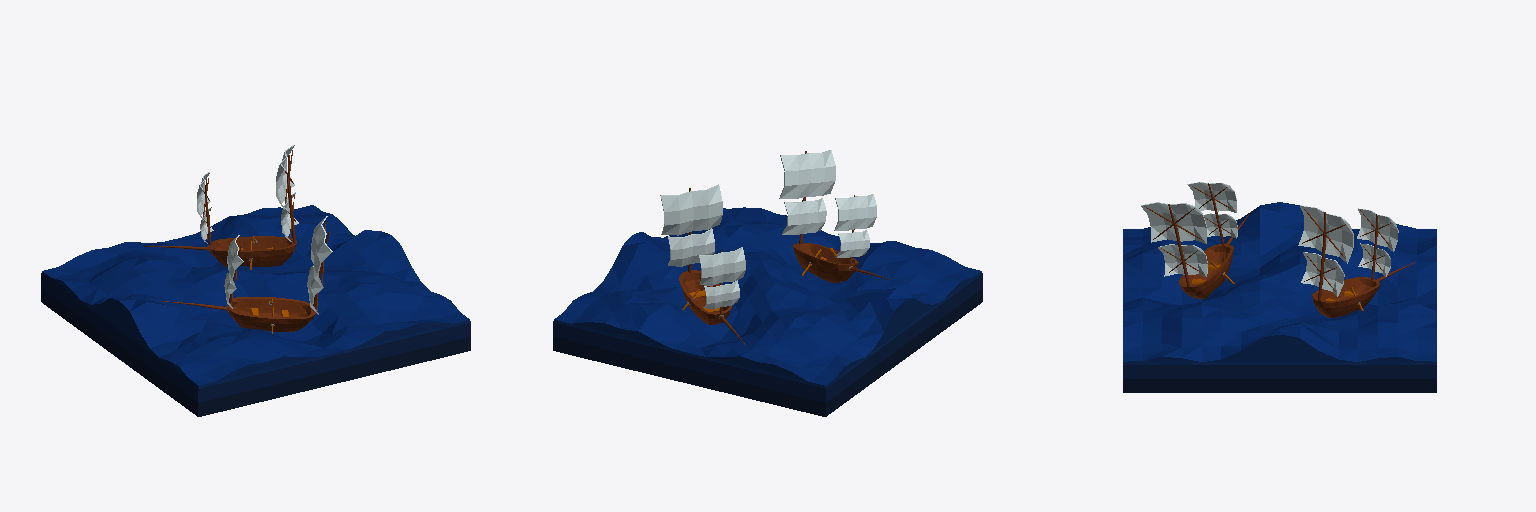
3 renders of one model, left to right at view 1: azimuth 30°, elevation 25°; view 2: azimuth 150°, elevation 25°; view 3: azimuth 270°, elevation 25°, orthographic.
Parts seen in each view (by area): view 1: ocean_平面, ship1_圓柱體.007, ship1.001_圓柱體.001; view 2: ocean_平面, ship1_圓柱體.007, ship1.001_圓柱體.001; view 3: ocean_平面, ship1.001_圓柱體.001, ship1_圓柱體.007.
Boxes of the visible parts, x1,y1,x2,y2 form: ocean_平面: [41, 205, 470, 416]; ship1_圓柱體.007: [162, 216, 332, 333]; ship1.001_圓柱體.001: [144, 145, 298, 269]; ocean_平面: [553, 207, 982, 416]; ship1_圓柱體.007: [779, 150, 888, 282]; ship1.001_圓柱體.001: [660, 184, 745, 344]; ocean_平面: [1123, 202, 1436, 392]; ship1.001_圓柱體.001: [1298, 205, 1415, 317]; ship1_圓柱體.007: [1141, 182, 1251, 298].
Size of the model in its own units: 20 by 9.92 by 20.
Materials: 1 (1 with a texture image).